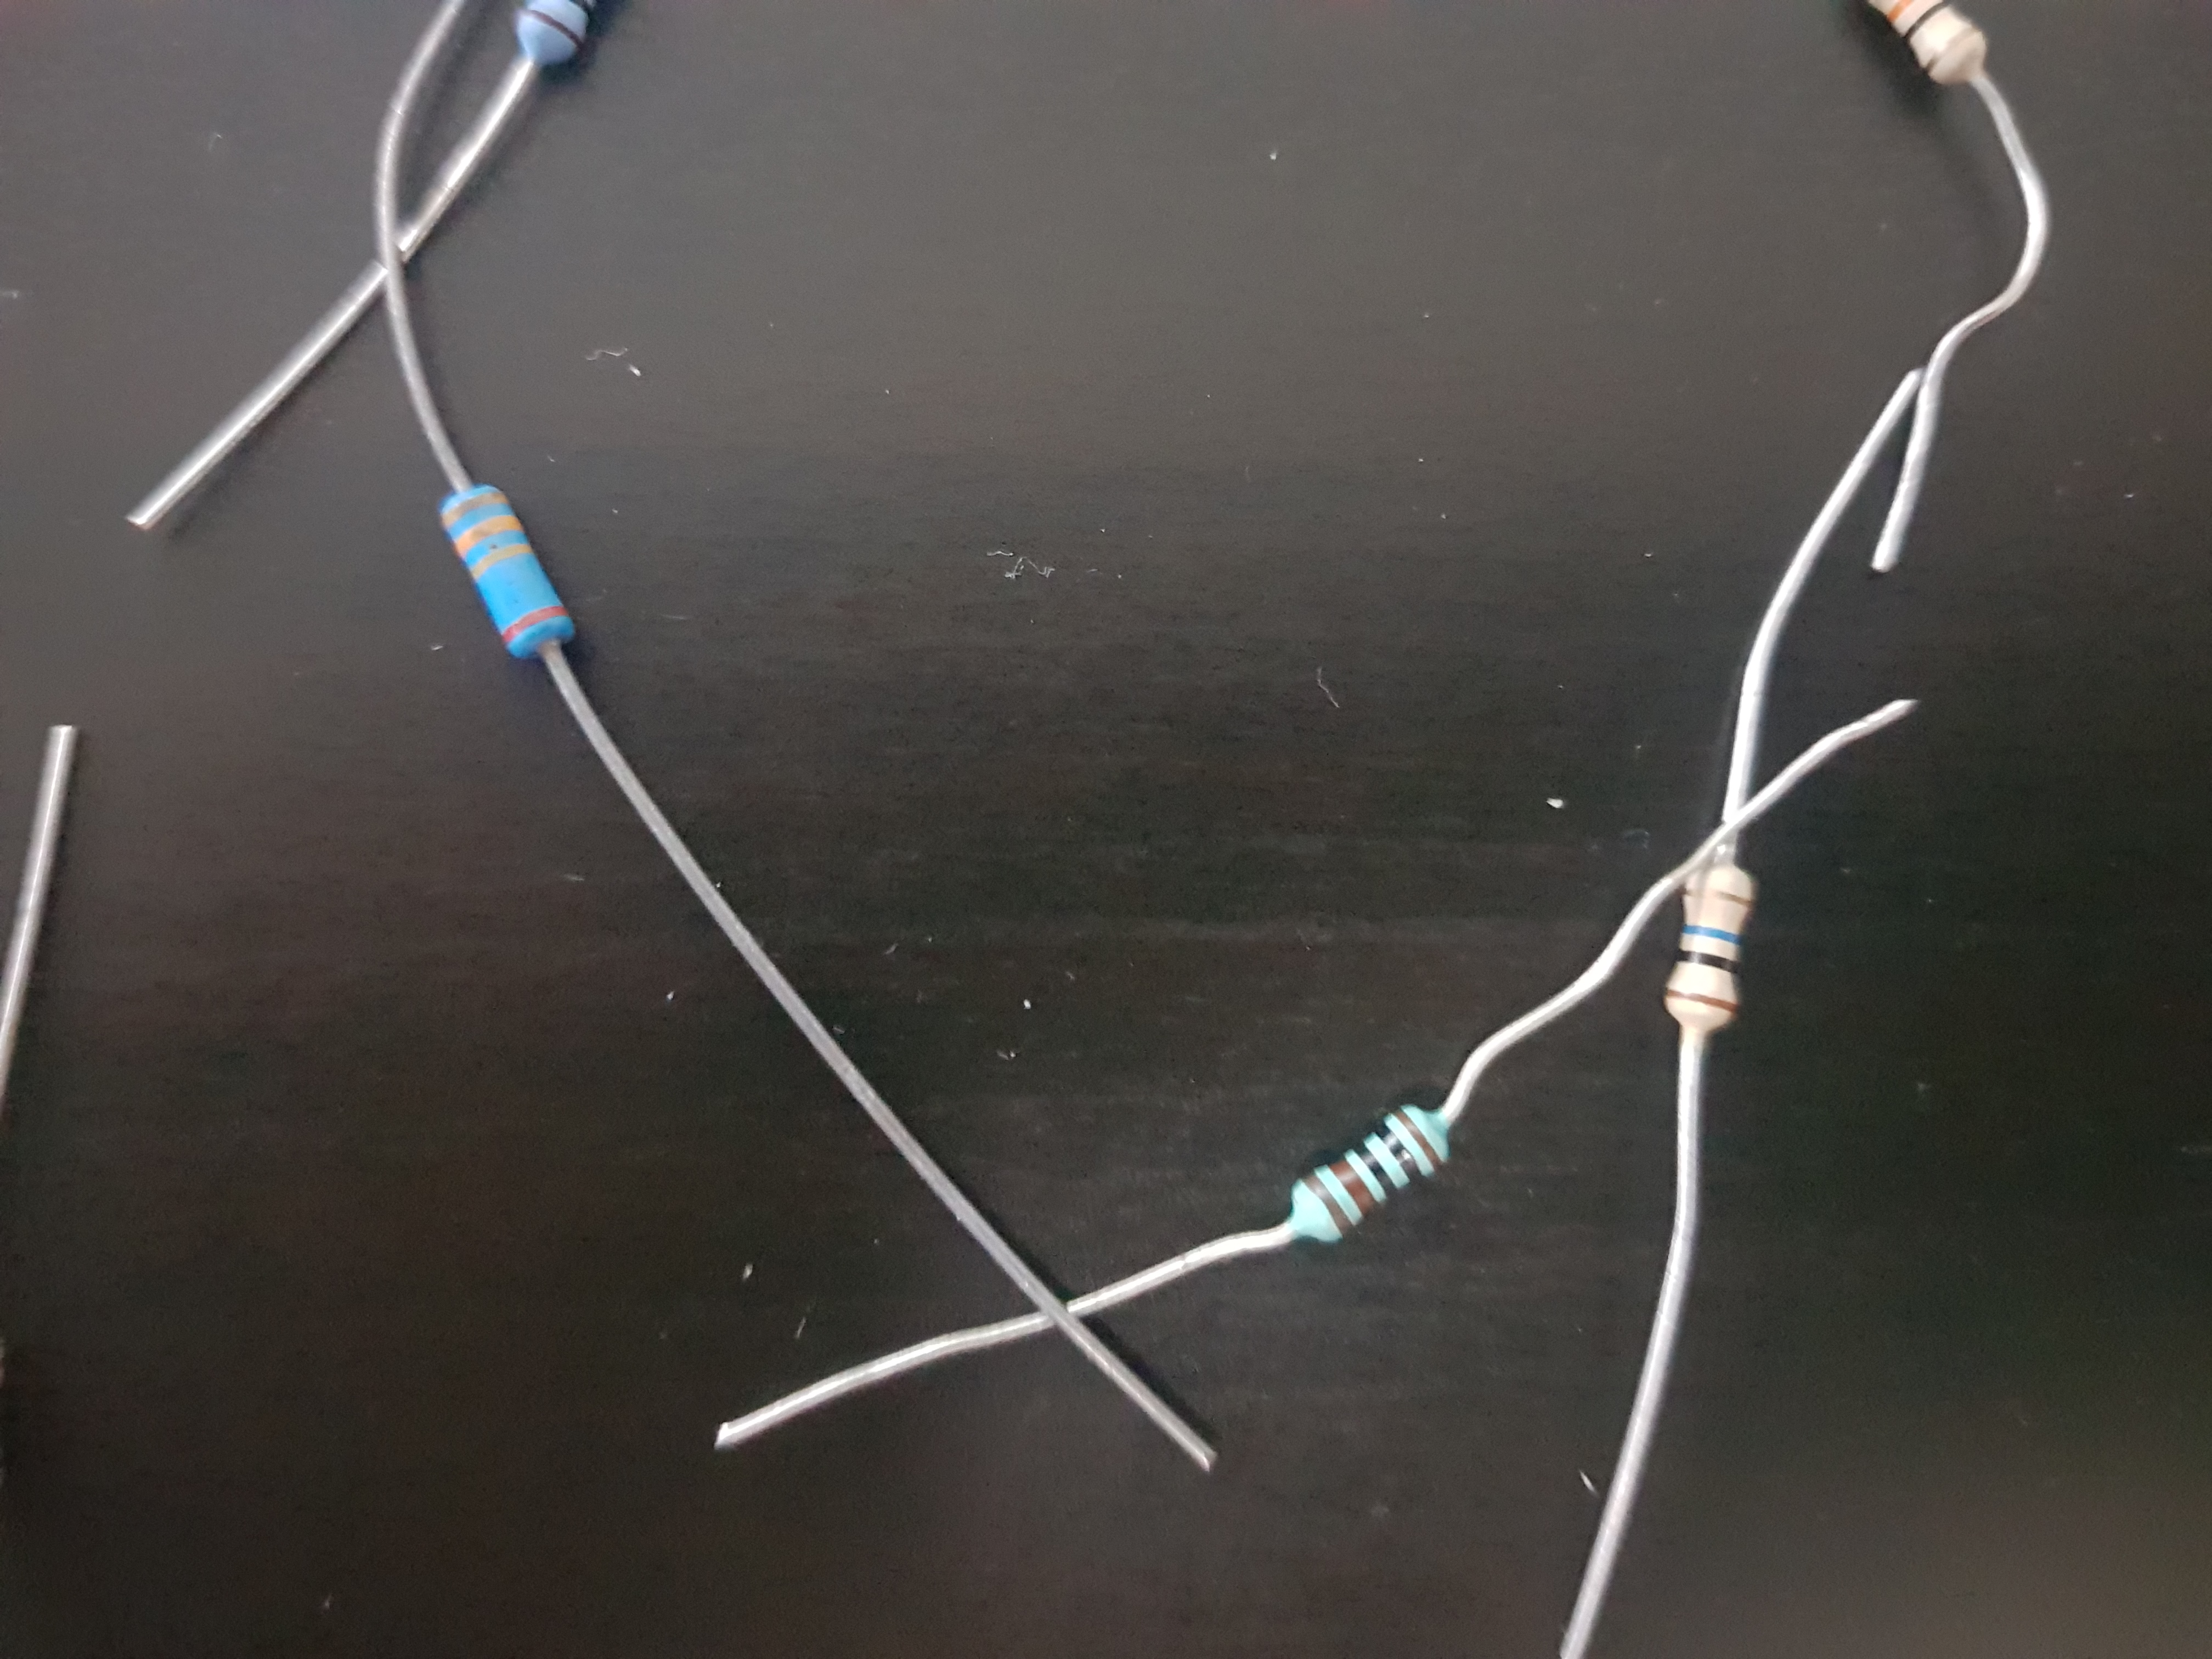resistor: (1179, 1025, 1501, 1337), (355, 425, 631, 739), (1622, 788, 1797, 1108), (1832, 0, 2038, 183)
